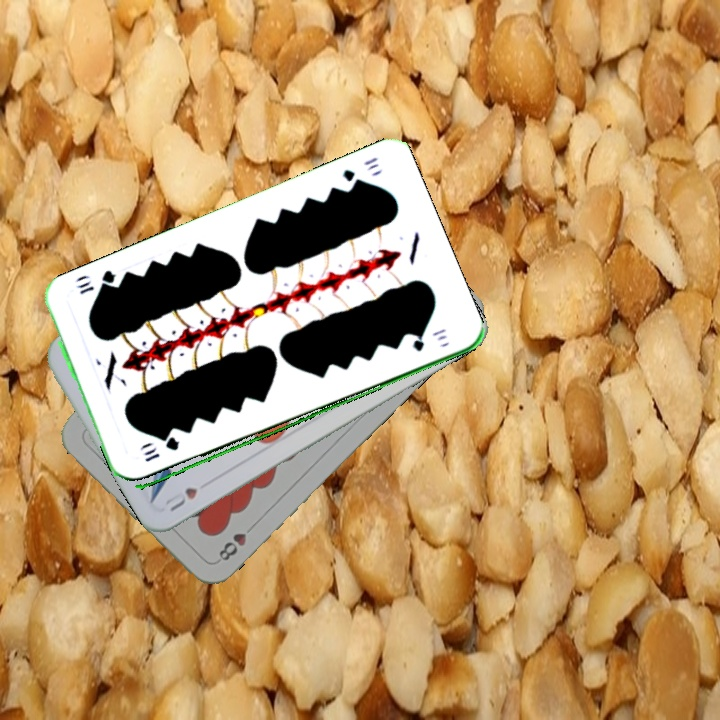G10: (338, 153, 381, 190), (141, 436, 183, 465)
H8: (214, 529, 249, 565)
HU: (160, 483, 201, 514)
